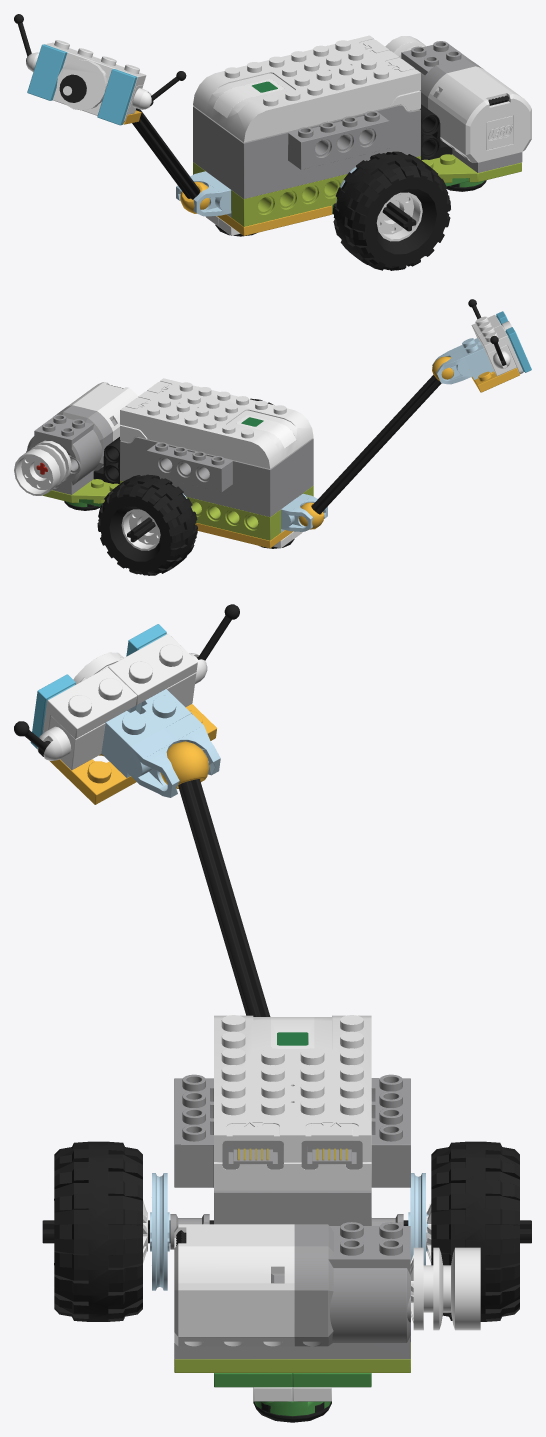
File: milo.fbx
3 renders of one model, top to bottom at view 1: azimuth 30°, elevation 25°; view 2: azimuth 150°, elevation 25°; view 3: azimuth 270°, elevation 25°, orthographic. The views are drawn at different scales.
Visible parts, largest first — view 1: 00030_19066.dat, 00037_19079.dat, 00048_56891.dat, 00023_u9328.dat, 00015_3702.dat, 00022_u9327.dat, 00067_14769p01.dat, 00070_3737.dat, 00066_3069b.dat, 00065_3069b.dat, 00003_32059.dat, 00011_92013.dat (+11 smaller); view 2: 00030_19066.dat, 00037_19079.dat, 00051_56891.dat, 00022_u9327.dat, 00027_55982.dat, 00070_3737.dat, 00006_3702.dat, 00054_92013.dat, 00023_u9328.dat, 00011_92013.dat, 00050_55982.dat, 00003_32059.dat (+10 smaller); view 3: 00030_19066.dat, 00022_u9327.dat, 00048_56891.dat, 00023_u9328.dat, 00037_19079.dat, 00051_56891.dat, 00054_92013.dat, 00070_3737.dat, 00027_55982.dat, 00031_19065.dat, 00058_44728.dat, 00057_44728.dat (+12 smaller).
Part boxes in pixels (x1,y1,x2,y2): 00030_19066.dat: (193,35,420,142); 00037_19079.dat: (193,104,420,198); 00048_56891.dat: (332,151,450,270); 00023_u9328.dat: (428,66,531,162); 00015_3702.dat: (231,156,420,226); 00022_u9327.dat: (401,41,522,172); 00067_14769p01.dat: (56,59,107,110); 00070_3737.dat: (132,108,200,199); 00066_3069b.dat: (97,69,137,125); 00065_3069b.dat: (27,44,67,100); 00003_32059.dat: (421,154,521,182); 00011_92013.dat: (176,171,231,217); 00030_19066.dat: (120,378,313,468); 00037_19079.dat: (120,437,313,516); 00051_56891.dat: (97,474,197,575); 00022_u9327.dat: (26,405,116,494); 00027_55982.dat: (14,440,71,495); 00070_3737.dat: (311,375,441,514); 00006_3702.dat: (120,480,280,540); 00054_92013.dat: (432,338,493,384); 00023_u9328.dat: (66,382,138,441); 00011_92013.dat: (281,493,327,532); 00050_55982.dat: (121,509,160,550); 00003_32059.dat: (42,479,119,503); 00030_19066.dat: (214,1015,371,1161); 00022_u9327.dat: (174,1222,410,1359); 00048_56891.dat: (54,1141,142,1321); 00023_u9328.dat: (174,1224,294,1346); 00037_19079.dat: (174,1074,410,1225); 00051_56891.dat: (431,1141,519,1321); 00054_92013.dat: (101,689,220,797); 00070_3737.dat: (178,779,270,1016); 00027_55982.dat: (410,1247,480,1330); 00031_19065.dat: (214,1162,371,1190); 00058_44728.dat: (42,667,137,738); 00057_44728.dat: (108,633,197,705).
Size of the model in its own units: 18.57 by 10.32 by 10.51.
